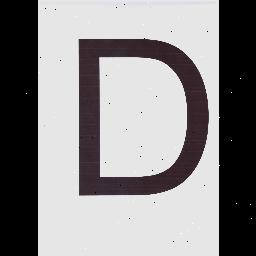d: (68, 30, 214, 200)
